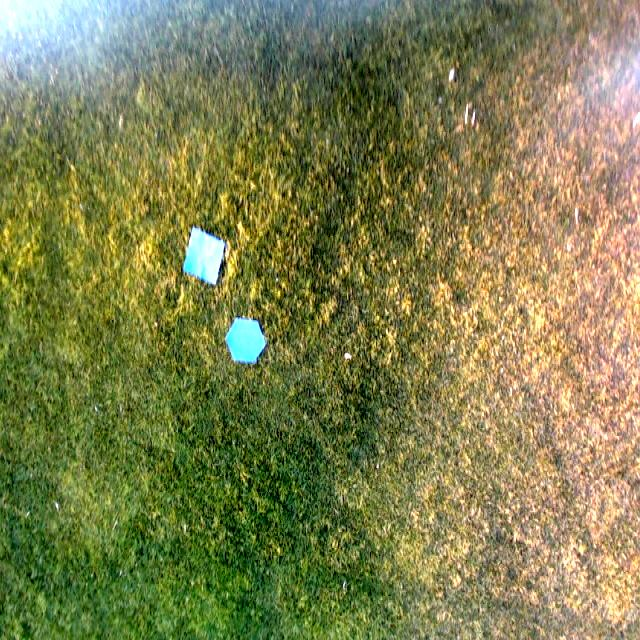blue_hexagon: (224, 317, 266, 365)
blue_square: (183, 227, 224, 287)
